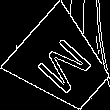M_SE: (29, 30, 96, 97)
